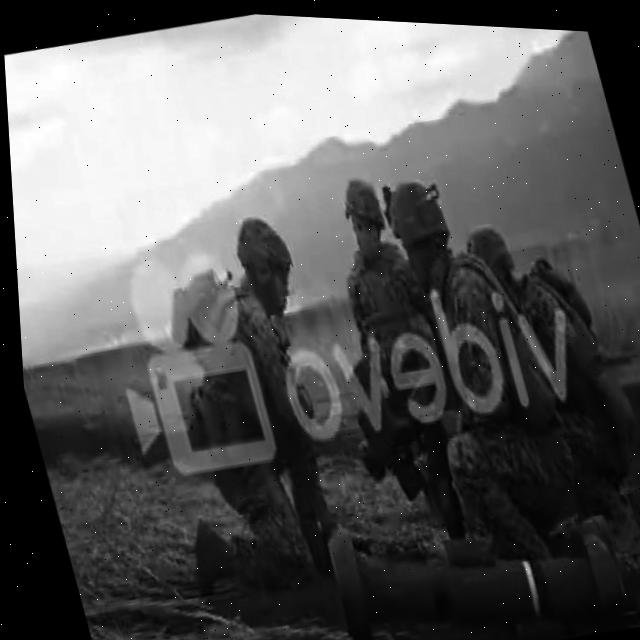rocket: (316, 465, 628, 640)
